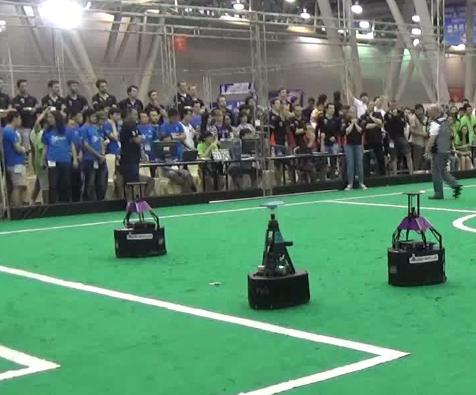robot: (242, 201, 312, 311), (385, 190, 454, 290), (111, 181, 170, 260)
